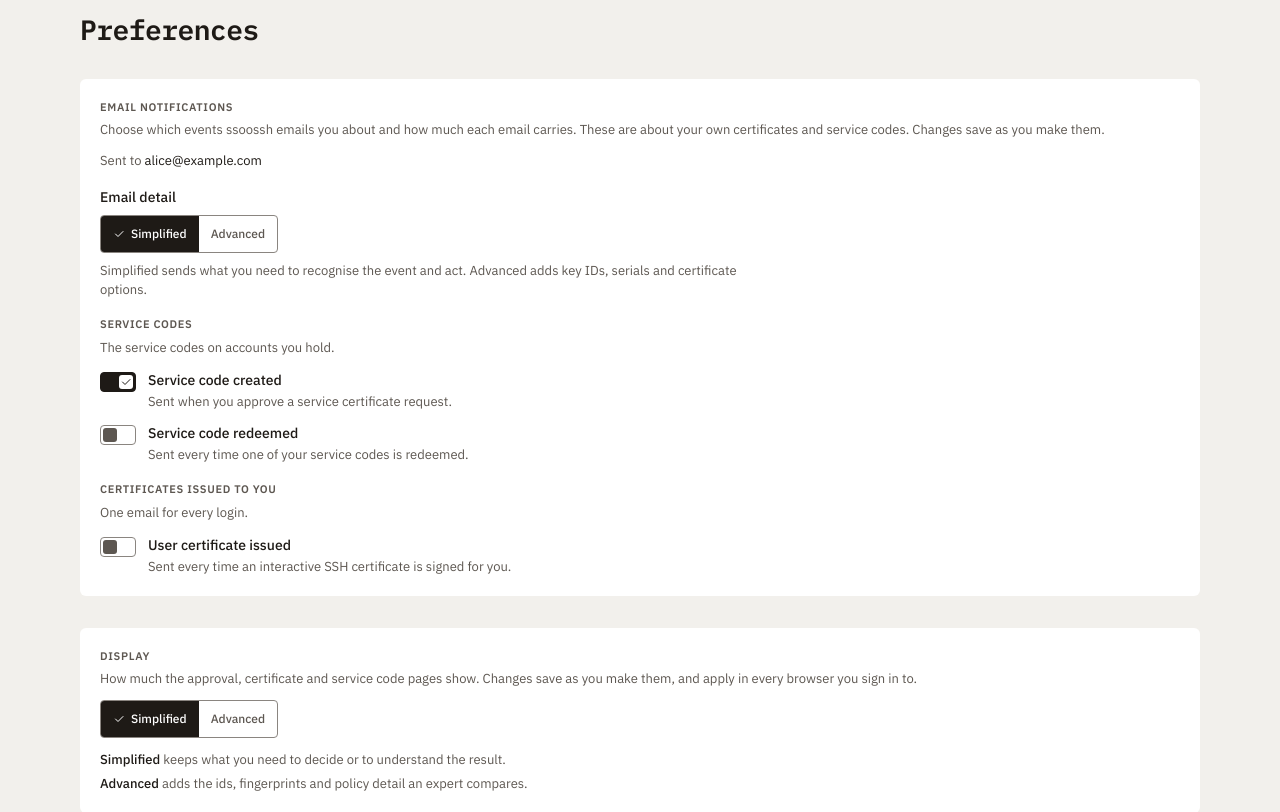
Scenario: Preferences page › when a switch is pressed › should say beside the switch that the save failed
Step 1. Click the switch labelled "Service code created" → (436, 390), box x1=100 y1=370 x2=772 y2=411
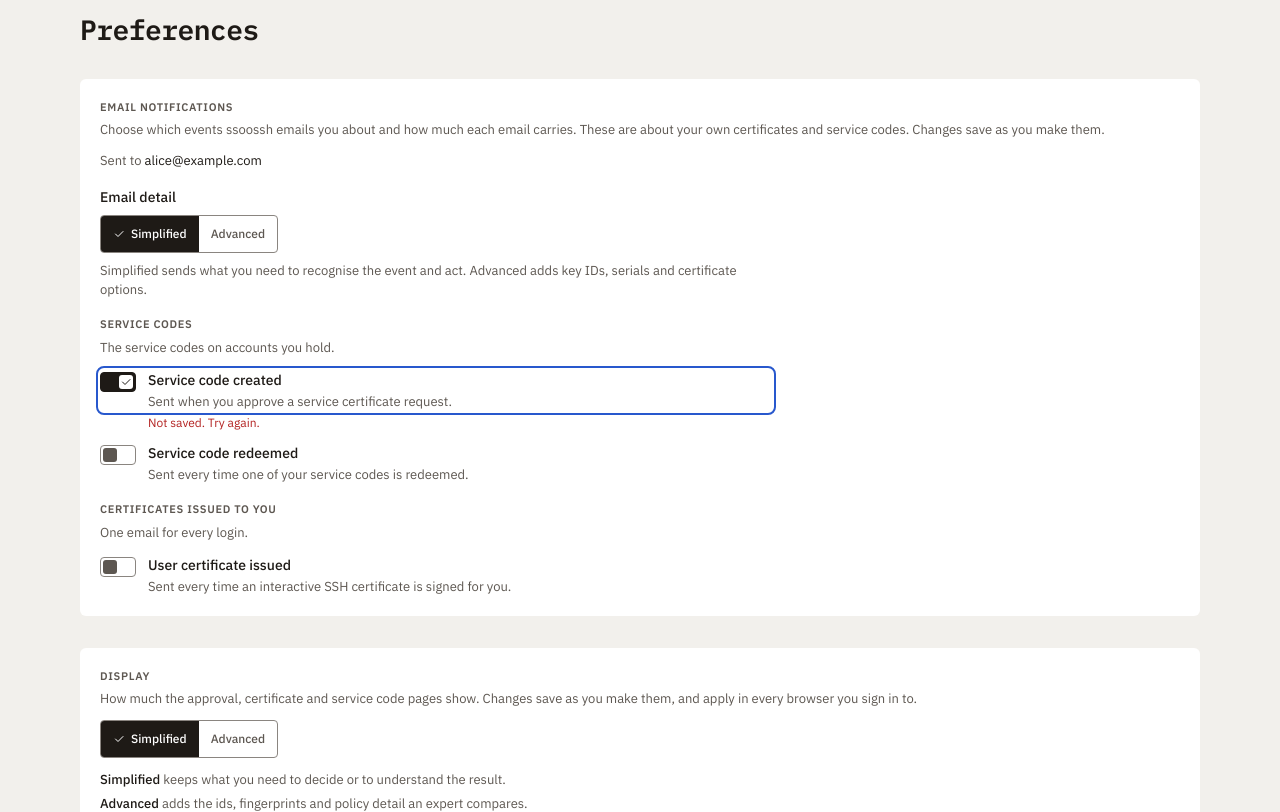
expect the message with test id "notification-service_enrollment_created-error" shows "Not saved": met, box x1=148 y1=415 x2=260 y2=430
